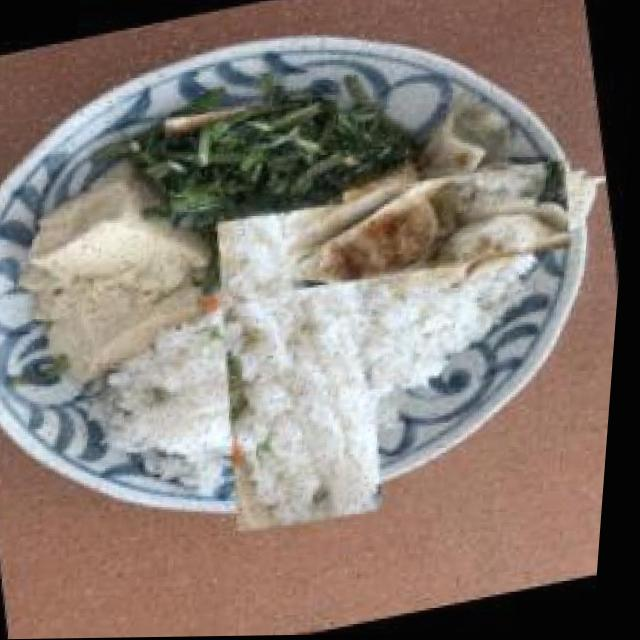fried_dumplings: (277, 145, 586, 307)
rice: (153, 217, 460, 511)
water_spinach: (156, 86, 363, 241)
